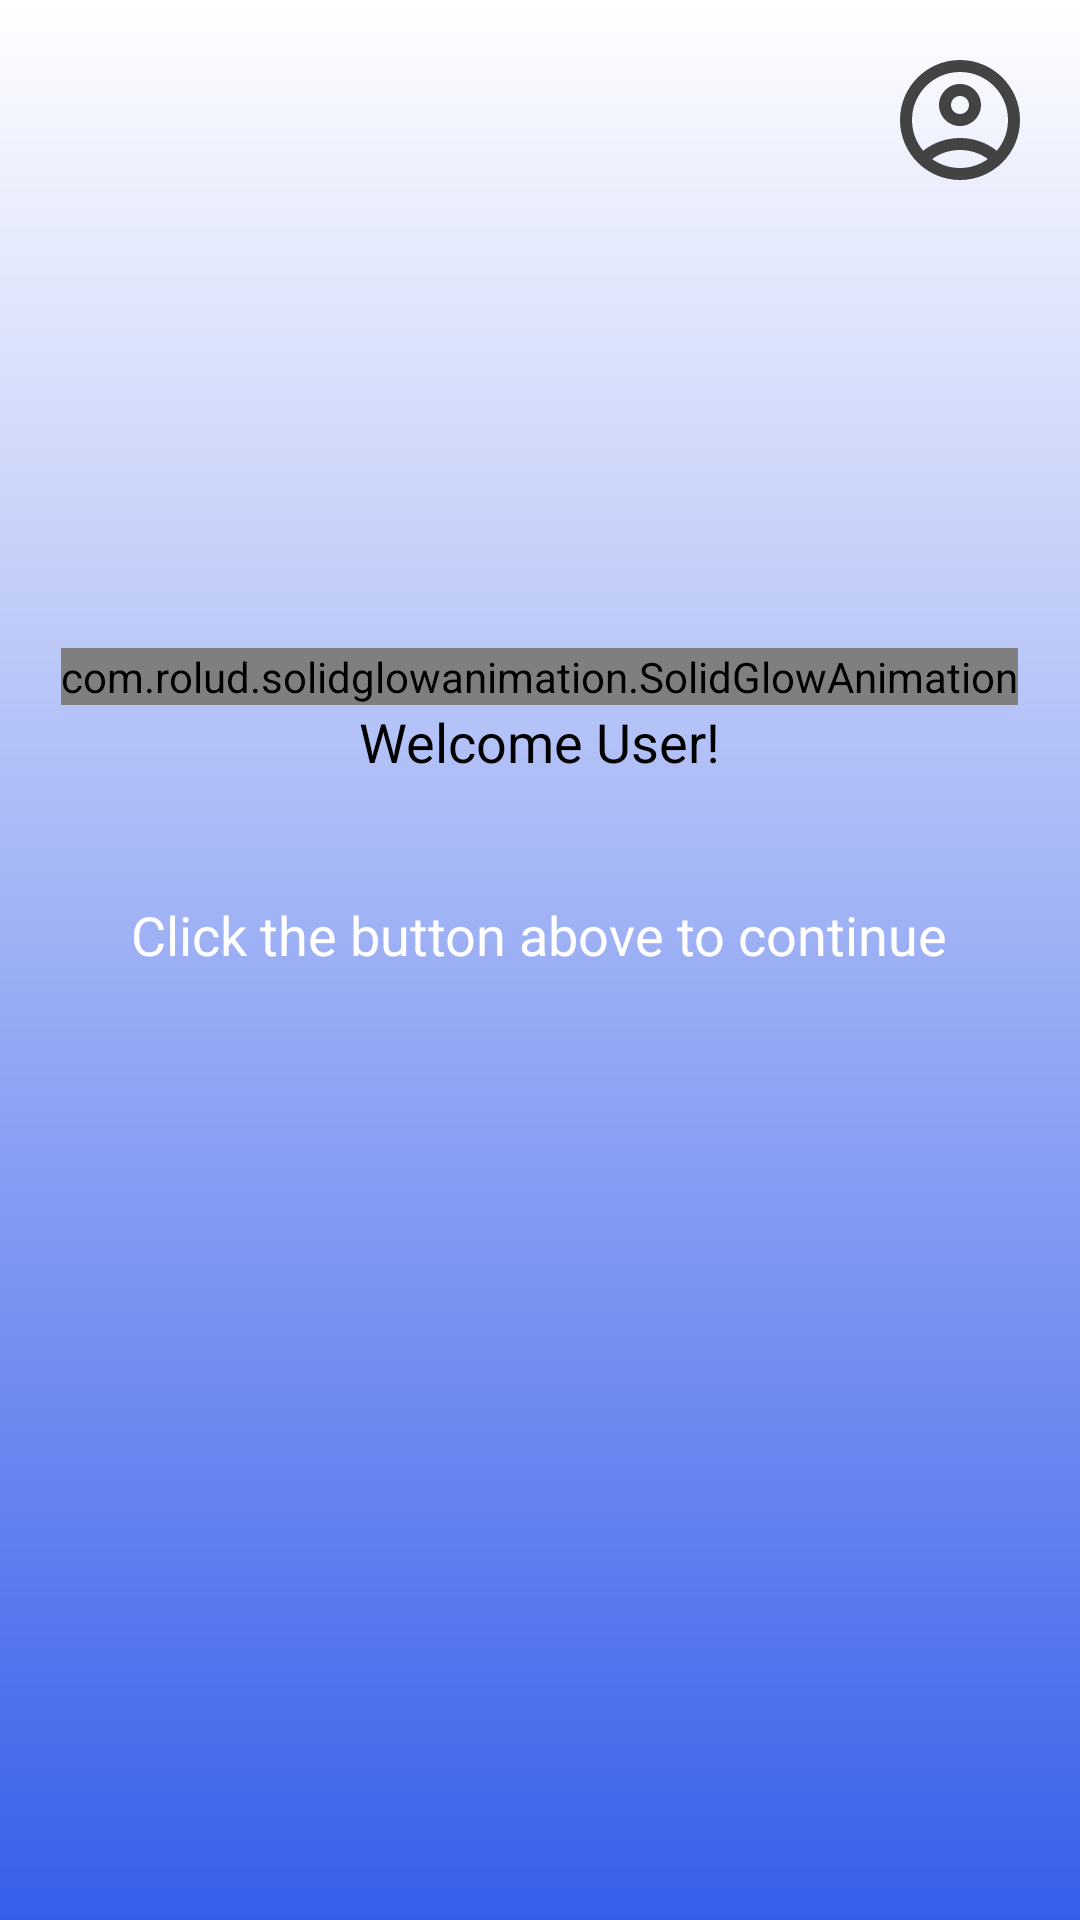

Icons on this 1080px x 1920px Android screen, each with its box as (x1, y1, x2, y2):
account circle: (900, 60, 1020, 180)
